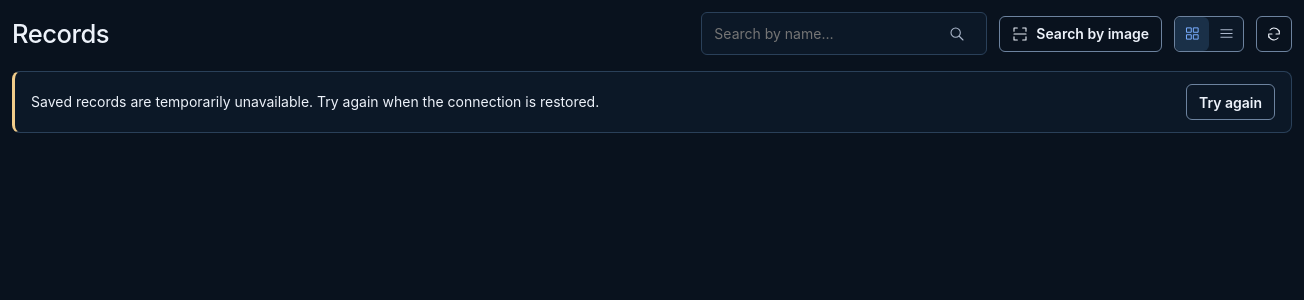
Test case: saved record read surfaces › retries an unavailable page only when requested
Click the button "Try again". click: (1230, 102)
box: [1186,84,1275,120]
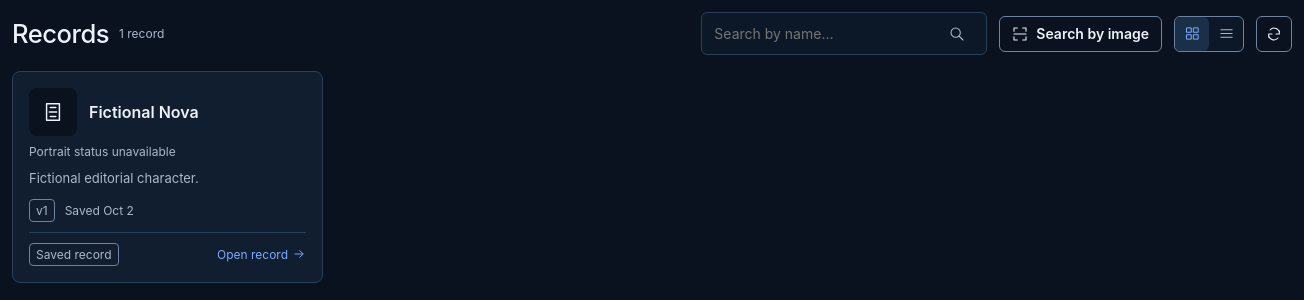
Now the button with aria-label "Open record" is shown, box [12,71,323,283]
